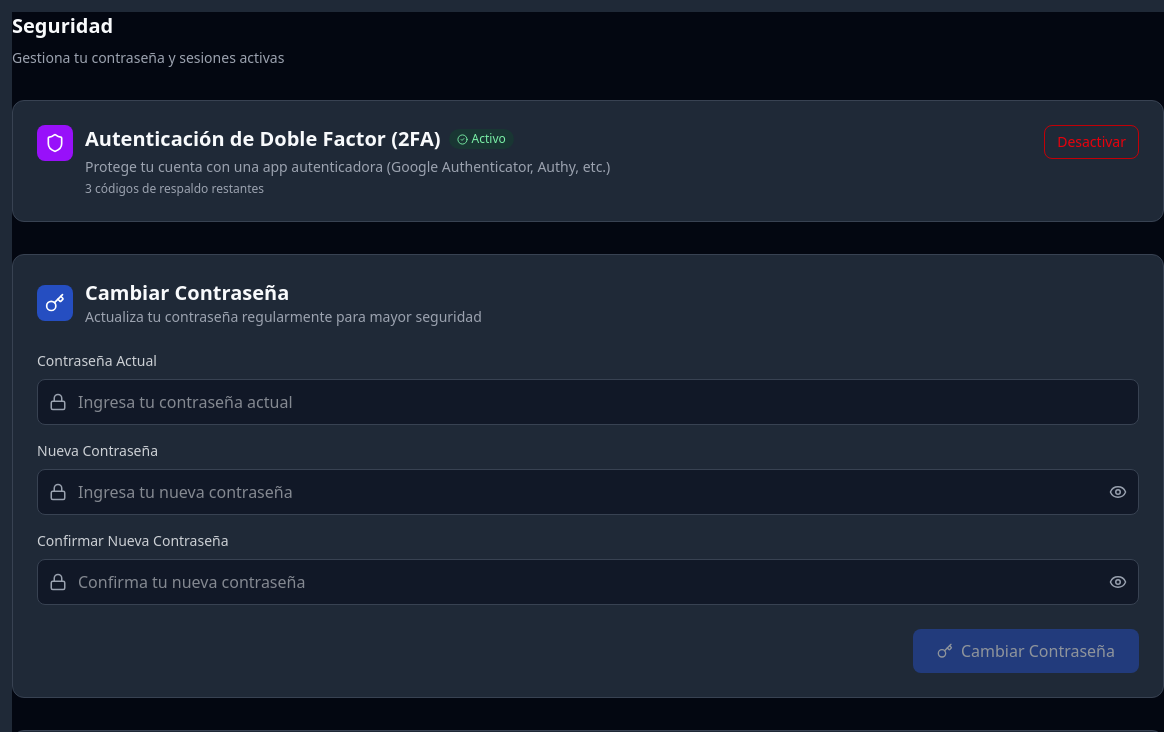
Test: SeguridadComponent fortaleza de contraseña › "abcdefgh1" -> Falta: Una mayúscula
The width and height of the screenshot is (1164, 732).
Type "abcdefgh1" into the password field with placeholder "Ingresa tu nueva contraseña" at (588, 492), box [37, 469, 1139, 515]
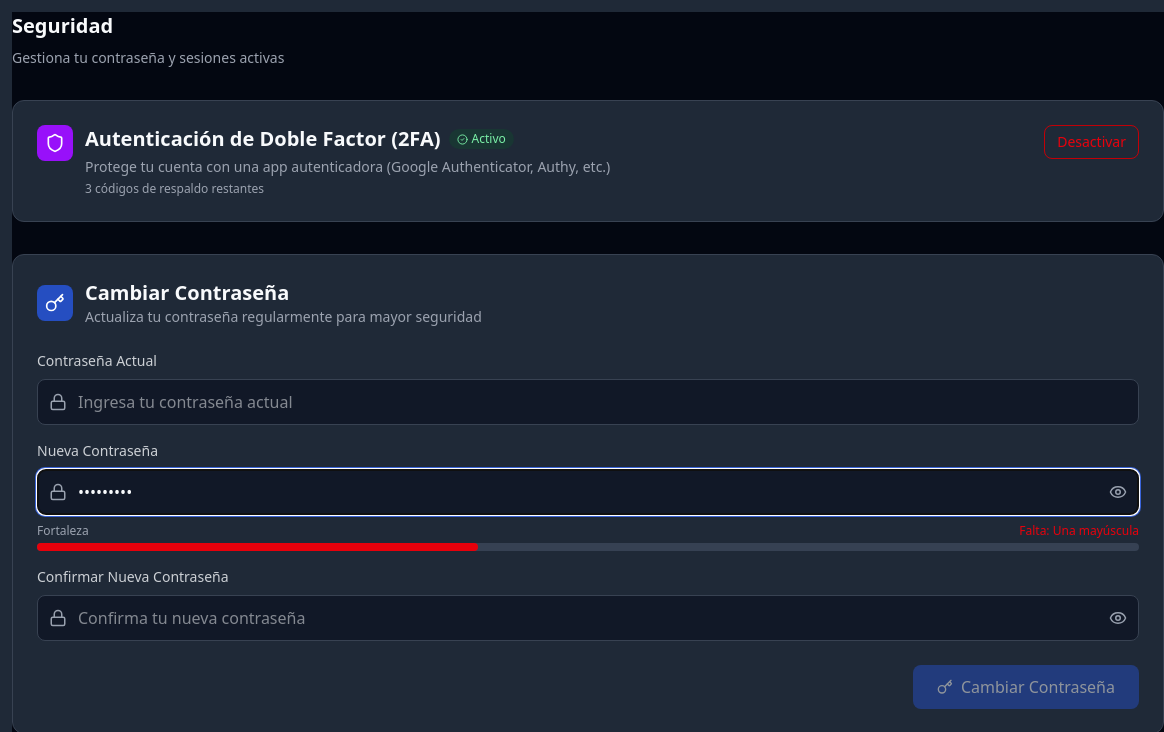
Check: the text "Falta: Una mayúscula" is shown, box [1019, 523, 1139, 539]
